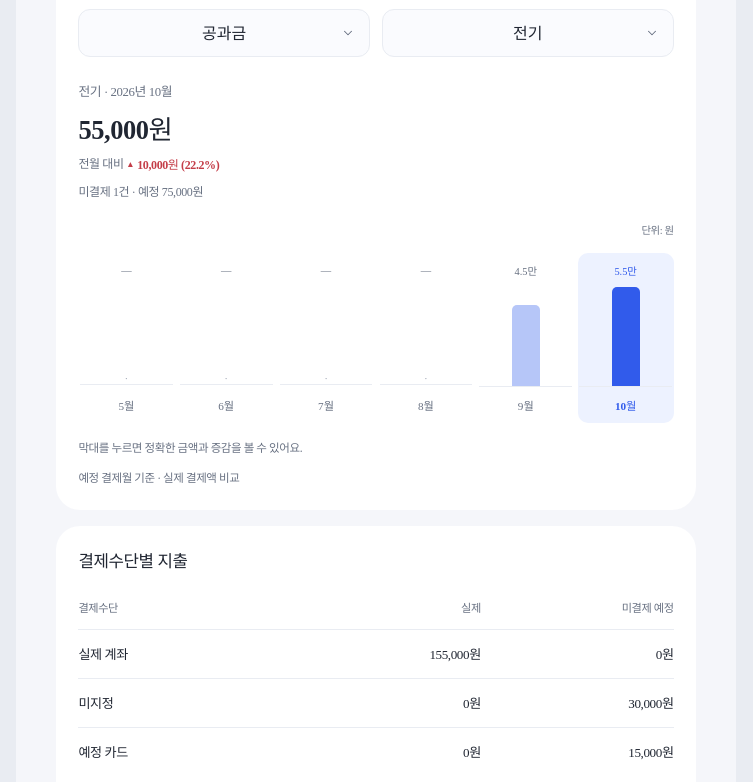
Test: 월별 막대를 선택하면 정확한 금액과 증감이 바뀌고 기록 없는 달도 확인한다
(page scrolled)
Expected: the text "5.5만" is shown, [614, 266, 637, 277]
Click the button named "2026년 9월, 45,000원" at (526, 338), box [478, 253, 574, 423]
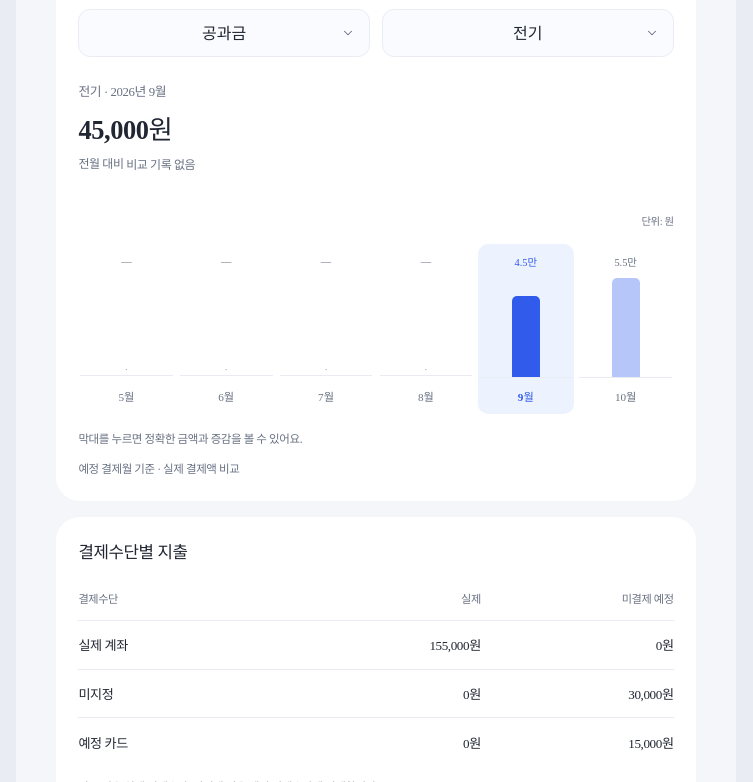
Expected: the text "전기 · 2026년 9월" is shown, [78, 85, 166, 99]
Expected: the text "45,000원" is shown, [78, 115, 172, 145]
Expected: the text "비교 기록 없음" is shown, [126, 156, 195, 175]
Click the button named "2026년 8월, 기록 없음" at (426, 329), box [378, 244, 474, 414]
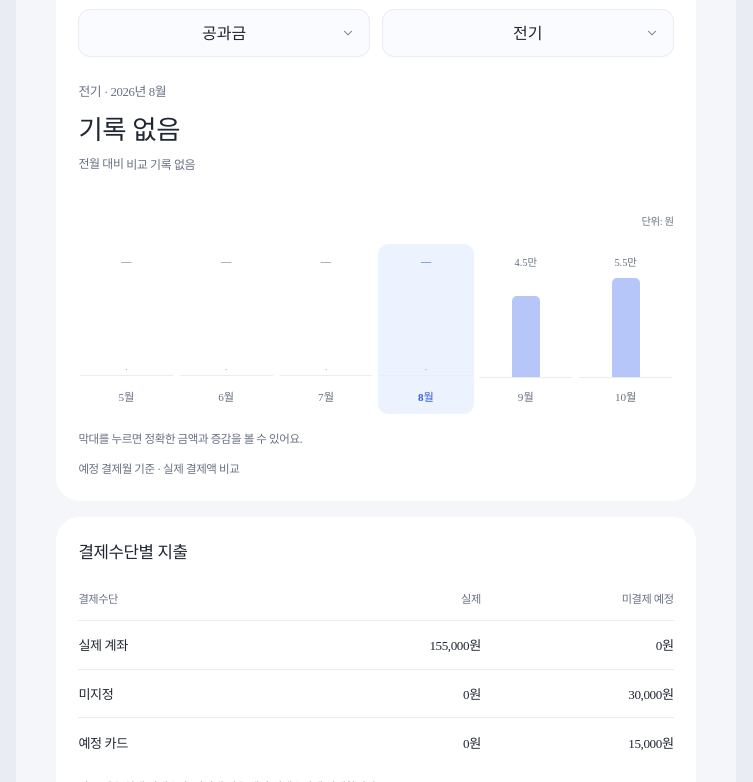
Expected: the text "기록 없음" is shown, [78, 115, 180, 145]
Click the button named "2026년 10월, 55,000원" at (626, 329), box [578, 244, 674, 414]
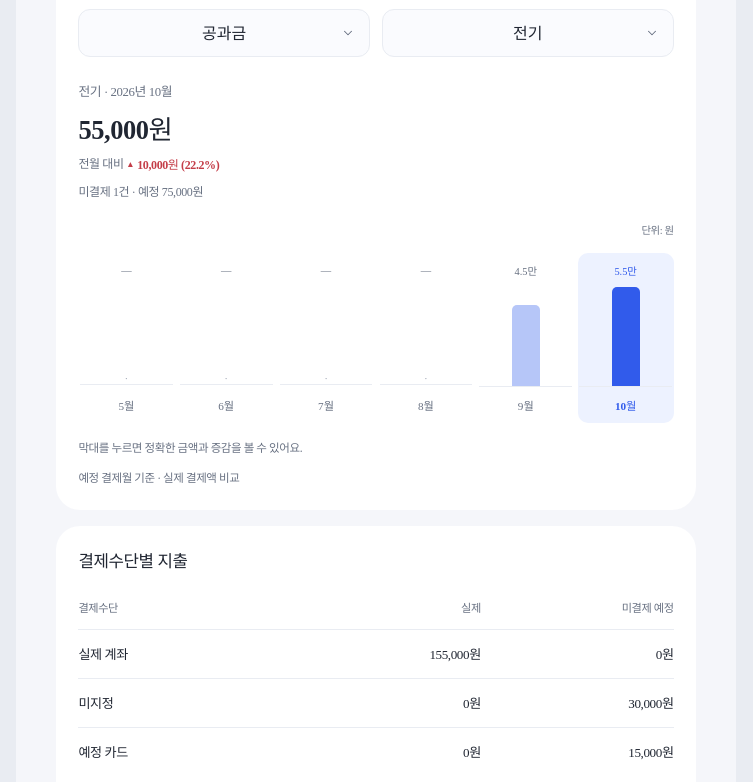
Expected: the text "10,000원 (22.2%)" is shown, [137, 156, 219, 175]
